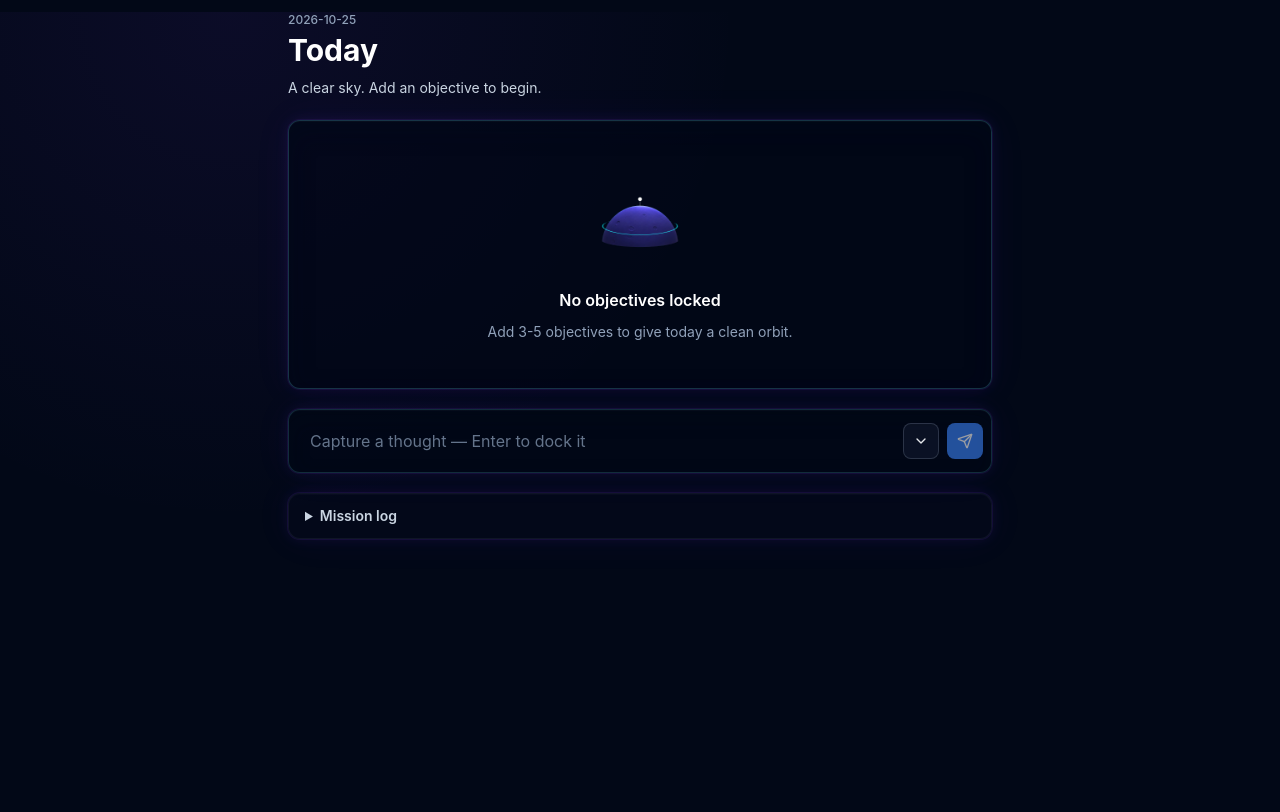
Test case: DailyMissionControlPage › preserves quick capture text when docking fails
Click the button named "More capture options": (921, 441) [903, 423, 939, 459]
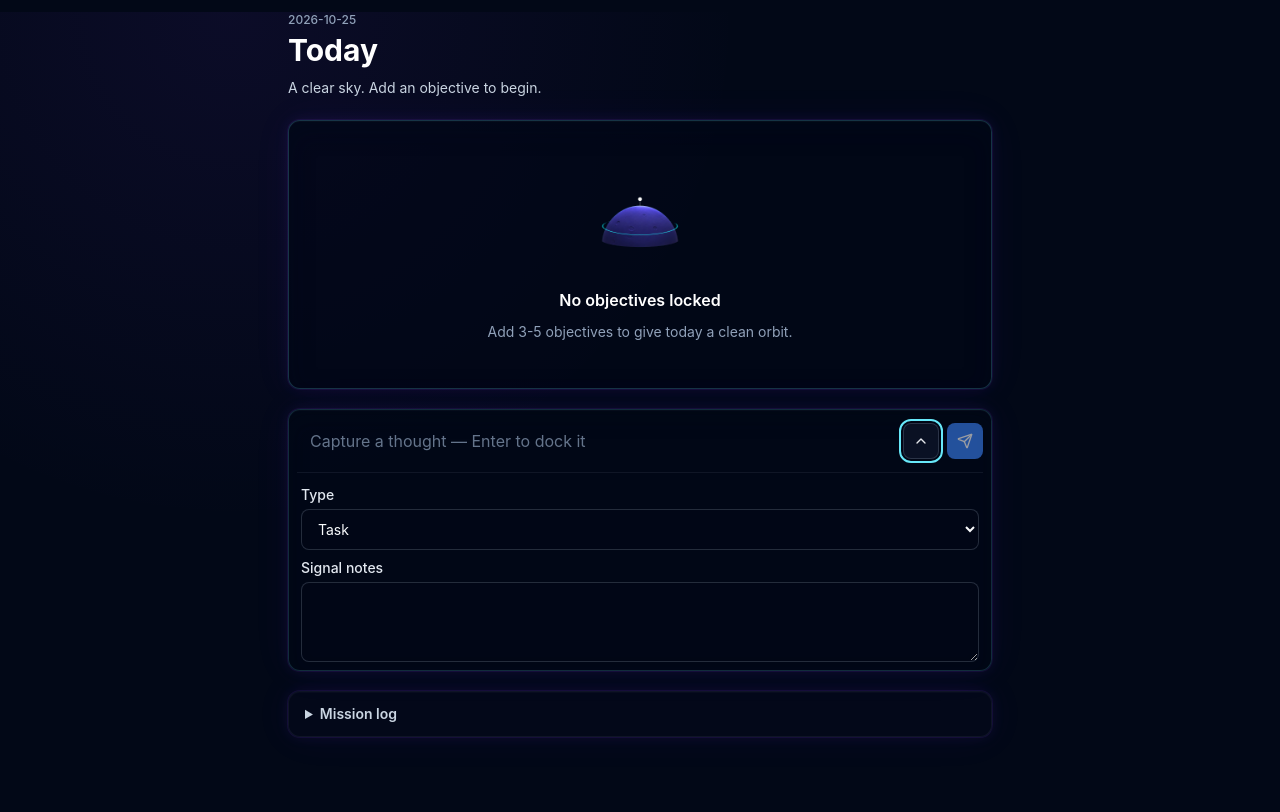
In the field with placeholder "Capture a thought — Enter to dock it": (596, 441) [297, 418, 895, 464], type "Preserve this signal"
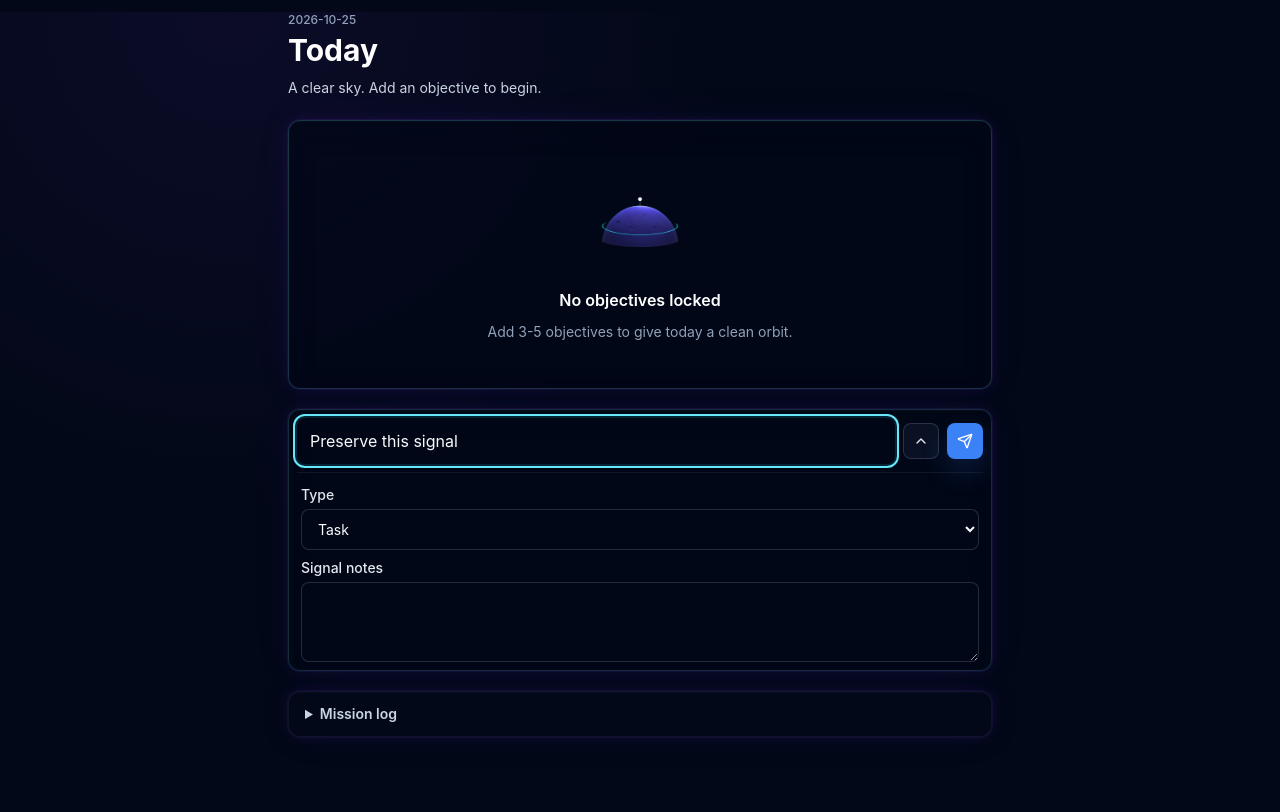
In the text box labelled "Signal notes": (640, 622) [301, 582, 979, 662], type "The details should survive failure."
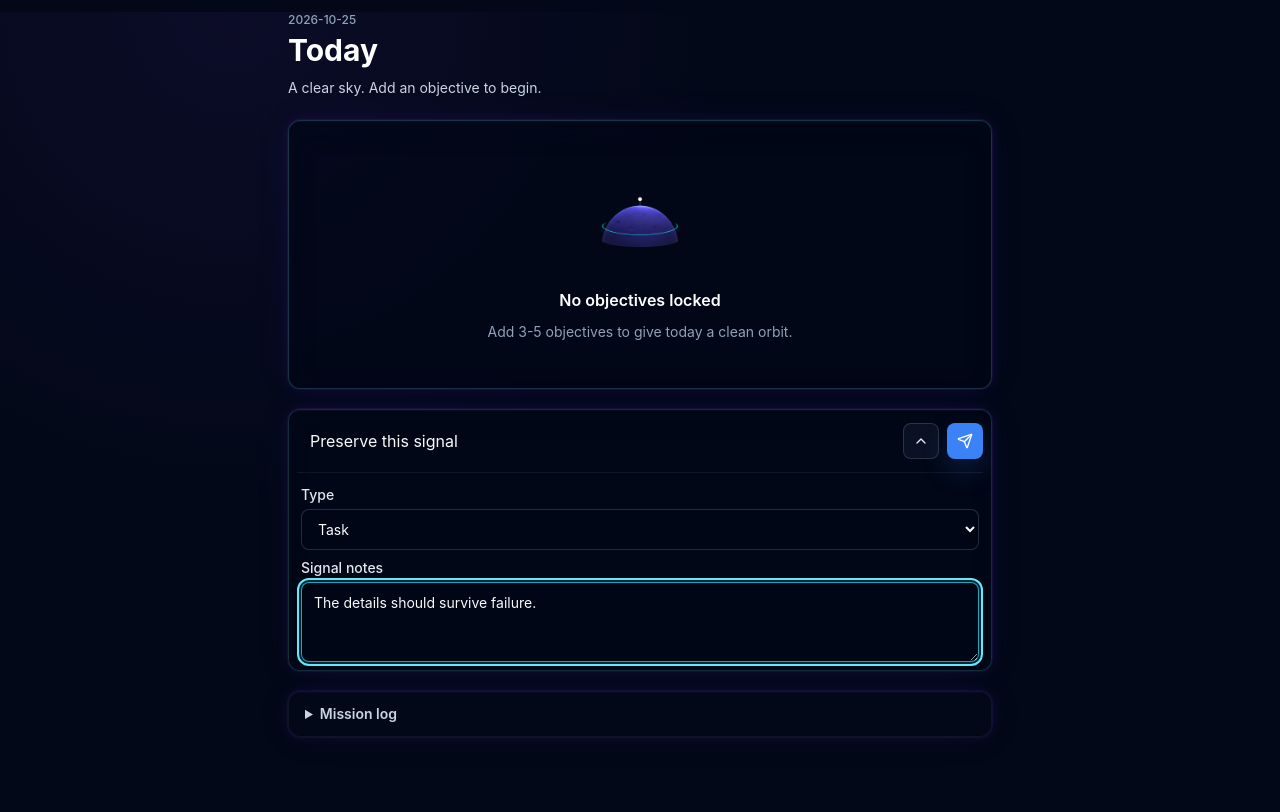
Click the button named "Dock signal": (965, 441) [947, 423, 983, 459]
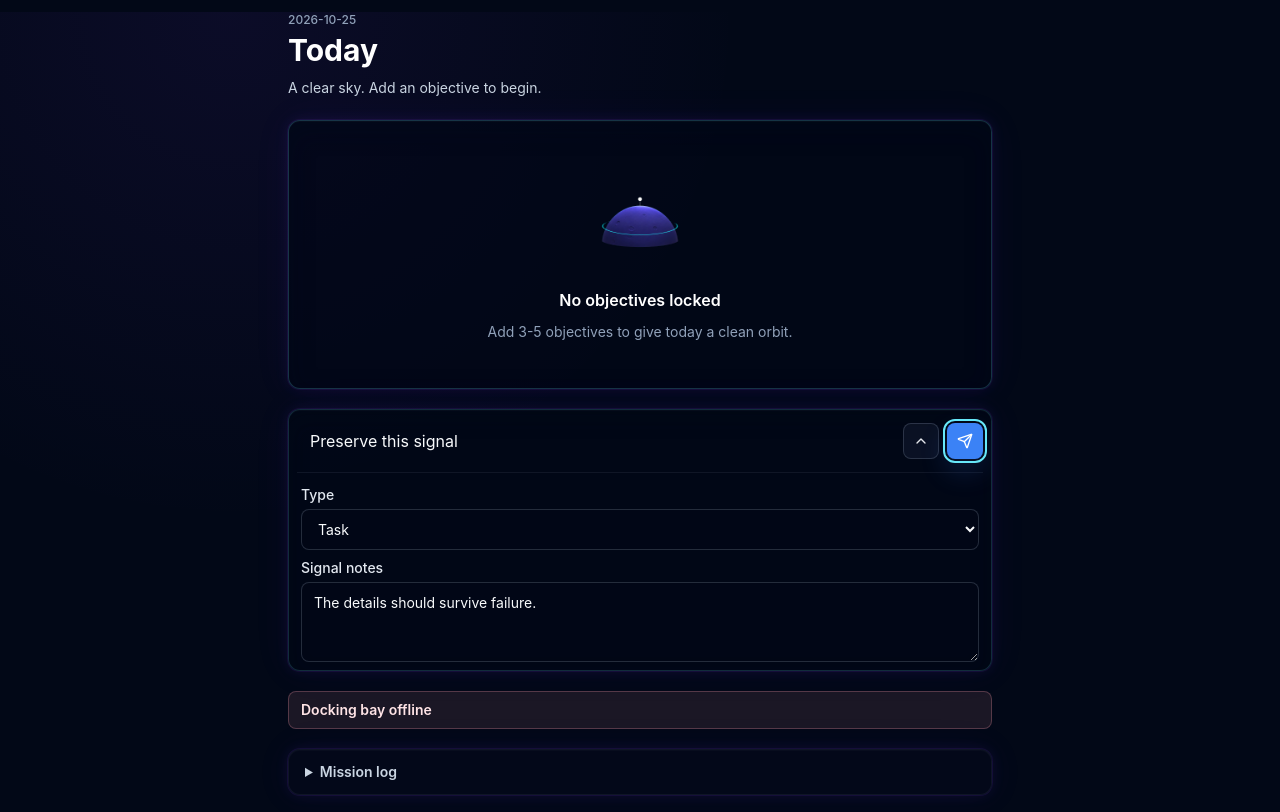
expect the text "Docking bay offline" is shown: met, box [288, 691, 992, 729]
